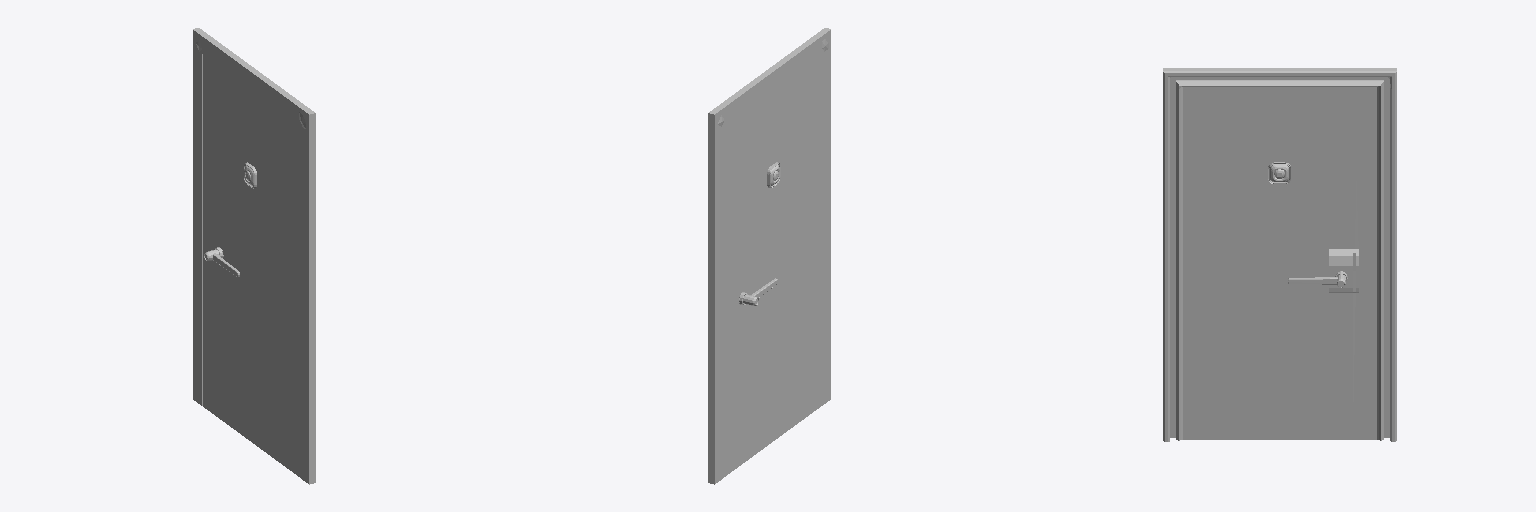
The model's file is Door.obj.
3 renders of one model, left to right at view 1: azimuth 30°, elevation 25°; view 2: azimuth 150°, elevation 25°; view 3: azimuth 270°, elevation 25°, orthographic.
Visible parts, largest first — view 1: Door, Door_Frame; view 2: Door, Door_Frame; view 3: Door, Door_Frame, Lock.
Part boxes in pixels (bbox=[...]): Door: bbox=[203, 55, 299, 476]; Door_Frame: bbox=[193, 28, 315, 484]; Door: bbox=[724, 54, 821, 476]; Door_Frame: bbox=[708, 28, 830, 484]; Door: bbox=[1183, 87, 1376, 439]; Door_Frame: bbox=[1163, 68, 1396, 441]; Lock: bbox=[1329, 249, 1358, 292].
Size of the model in its own units: 0.4657 by 4.21 by 2.4.